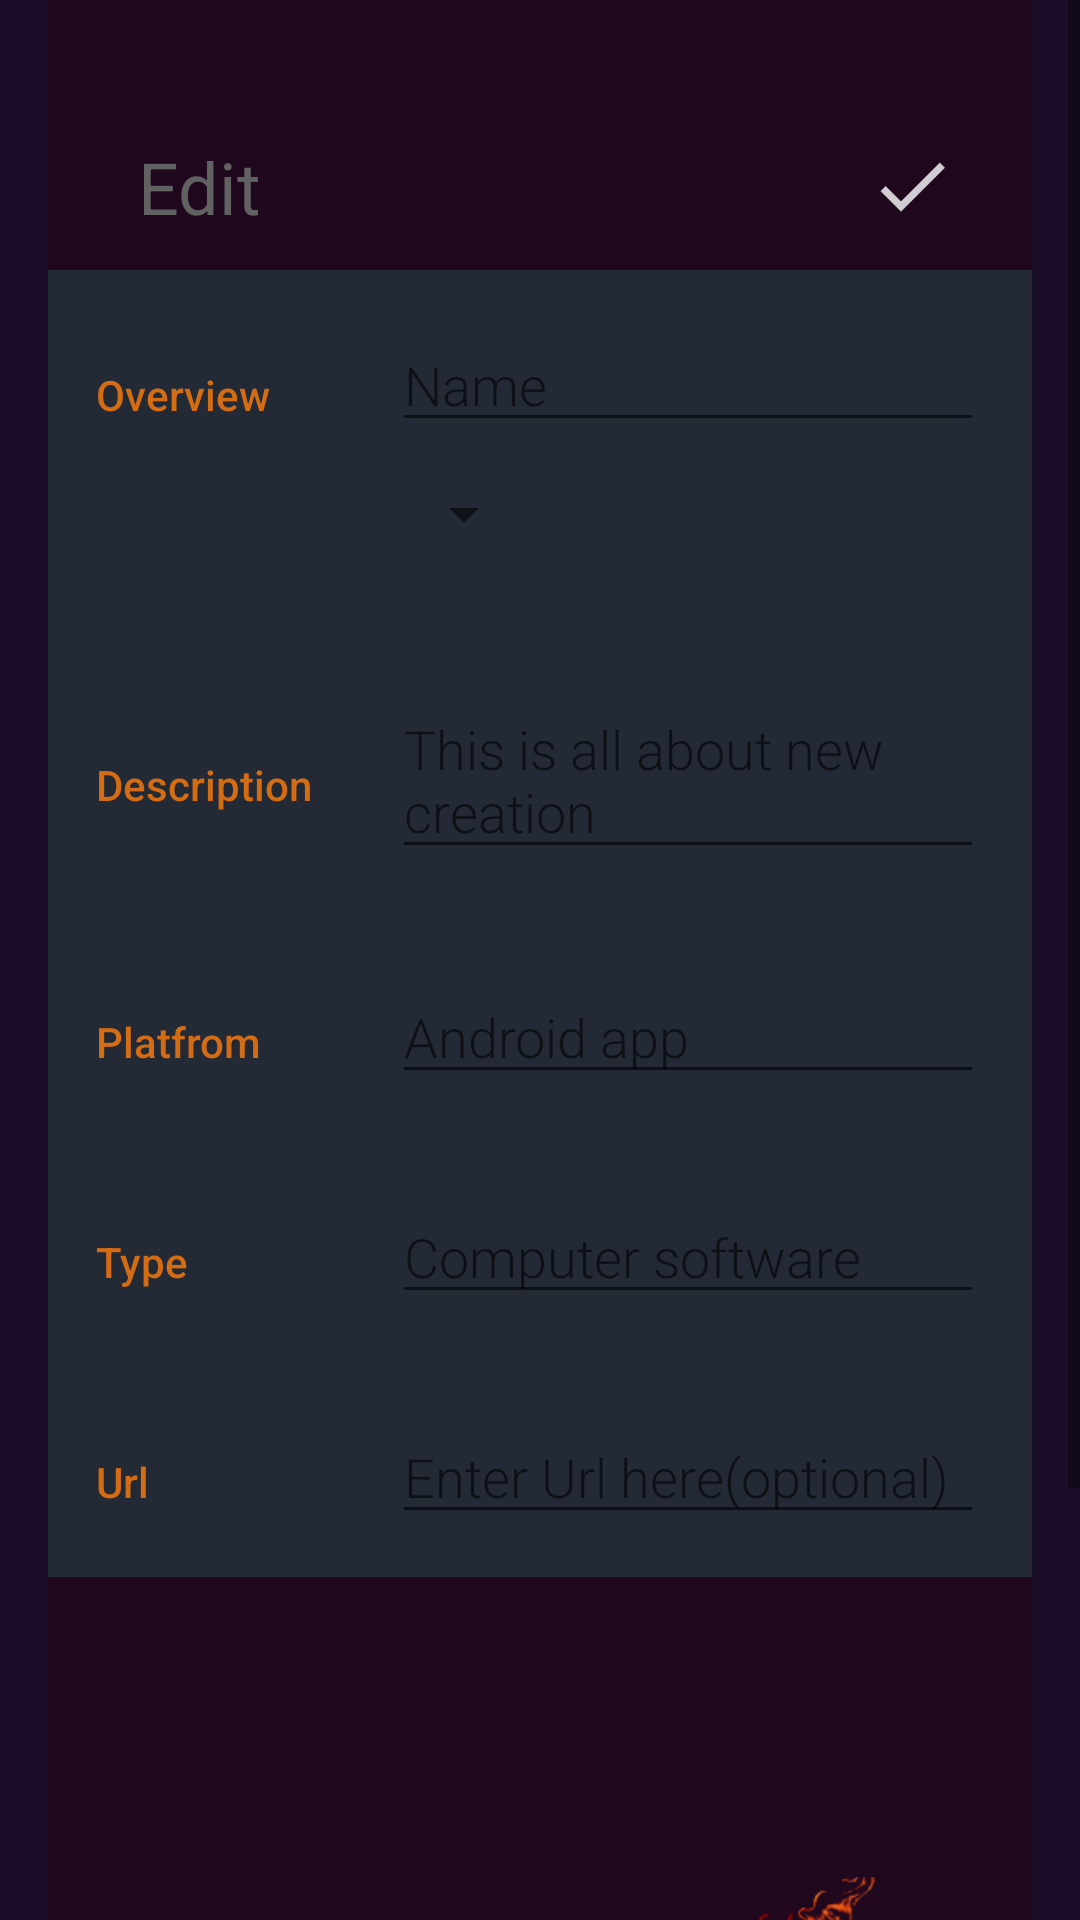

Named icons in this screenshot (1080x1920) and their bounding boxes, (x1, y1, x2, y2):
save: (880, 162, 945, 212)
